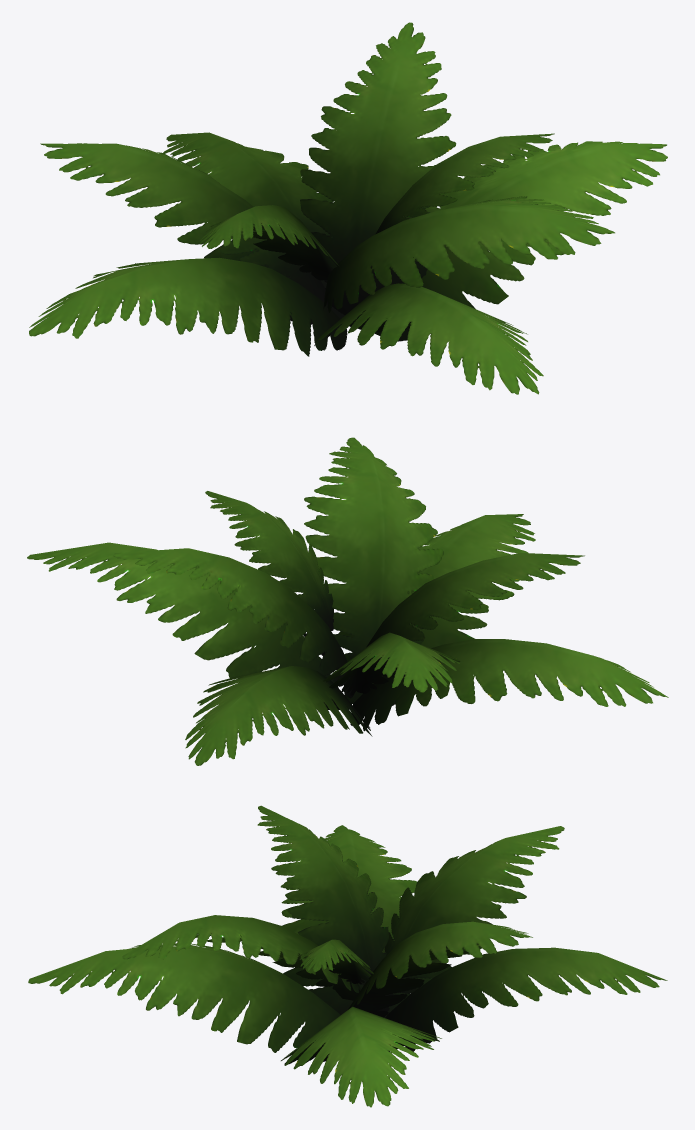
The model's file is fern.glb.
3 views of the same model, one above another, from view 1: azimuth 30°, elevation 25°; view 2: azimuth 150°, elevation 25°; view 3: azimuth 270°, elevation 25° (orthographic). The views are drawn at different scales.
Parts seen in each view (by area): view 1: Fern_1; view 2: Fern_1; view 3: Fern_1.
Part boxes in pixels (x1=…): Fern_1: x1=29, y1=22, x2=667, y2=394; Fern_1: x1=27, y1=437, x2=668, y2=765; Fern_1: x1=28, y1=805, x2=667, y2=1107.
Bounding box in the file's own units: 2.83 × 0.8402 × 2.65.
1 material, 1 textured.
